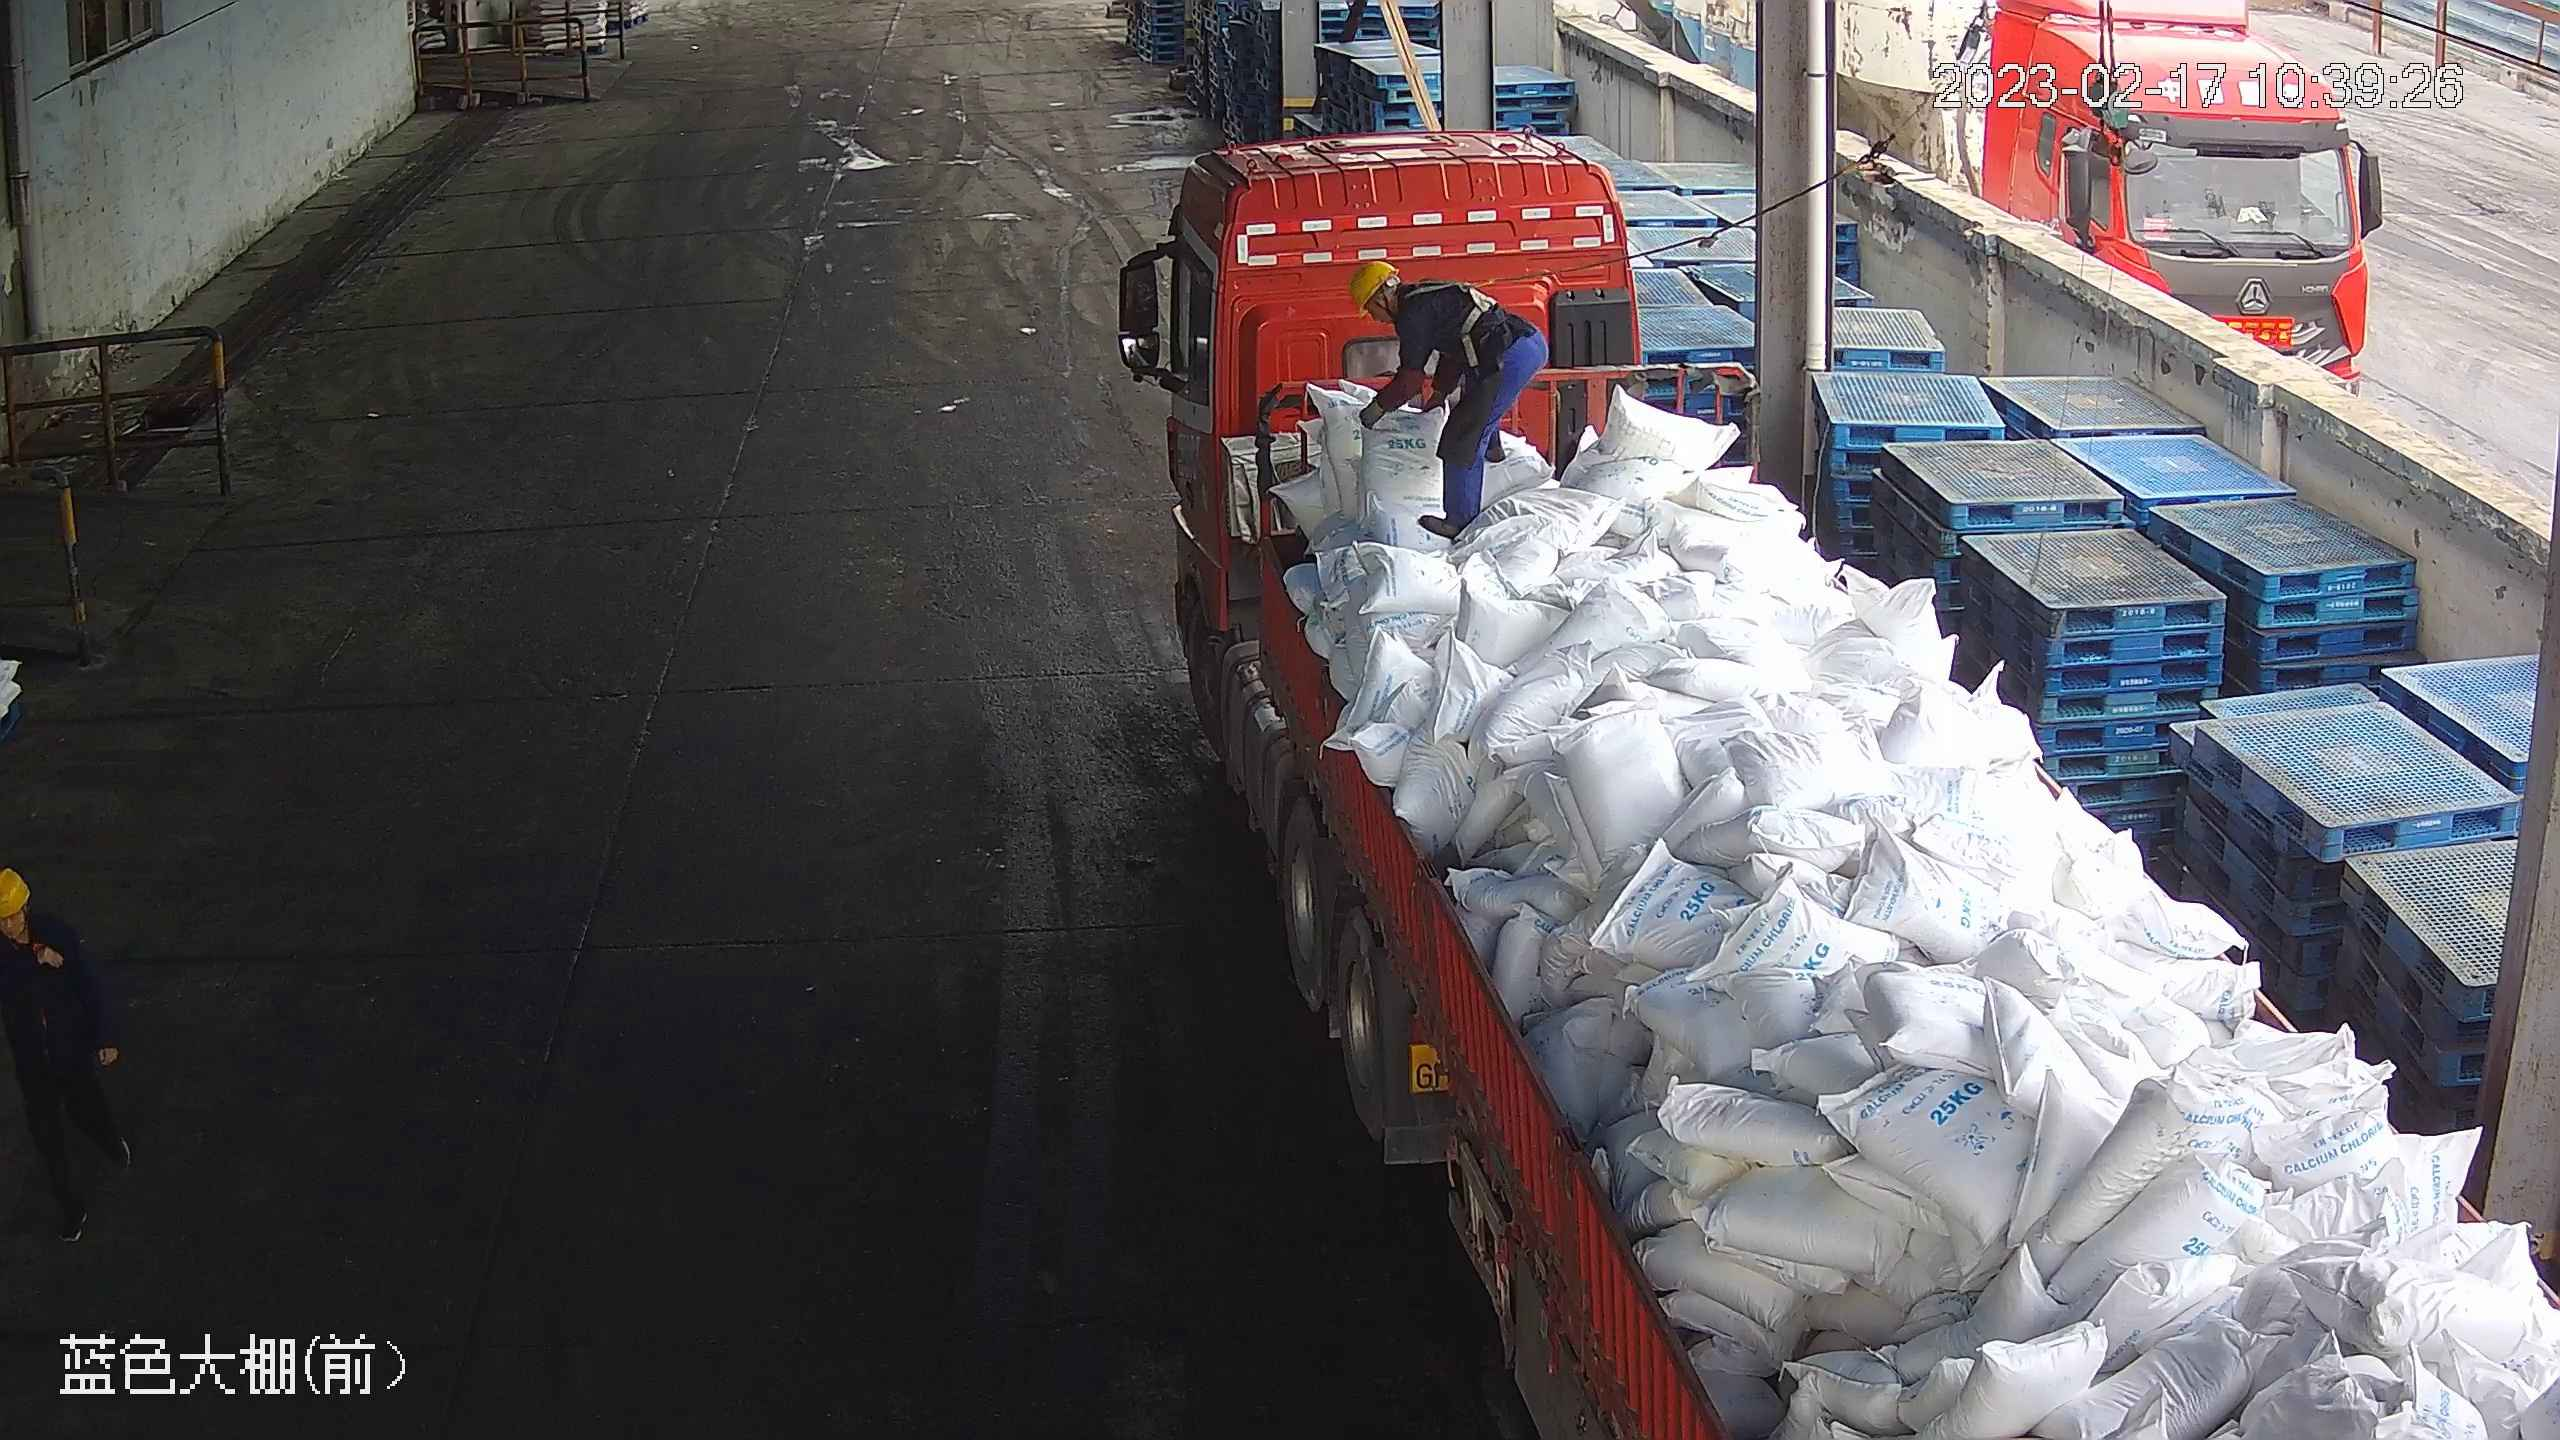belt: (1410, 272, 1494, 338)
head: (1, 863, 108, 1026), (1347, 258, 1462, 353)
helmet: (1348, 257, 1396, 315), (1, 863, 28, 920)
people: (1345, 259, 1544, 545), (1, 861, 136, 1252)
truck: (1110, 133, 2558, 1440)
